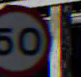Speed limit: (0, 3, 53, 75)
